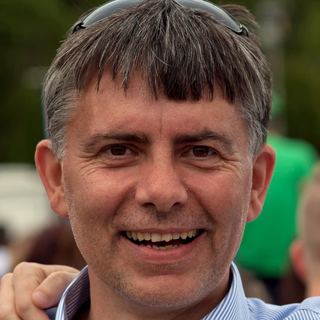eye: (88, 138, 145, 166), (176, 142, 225, 166)
